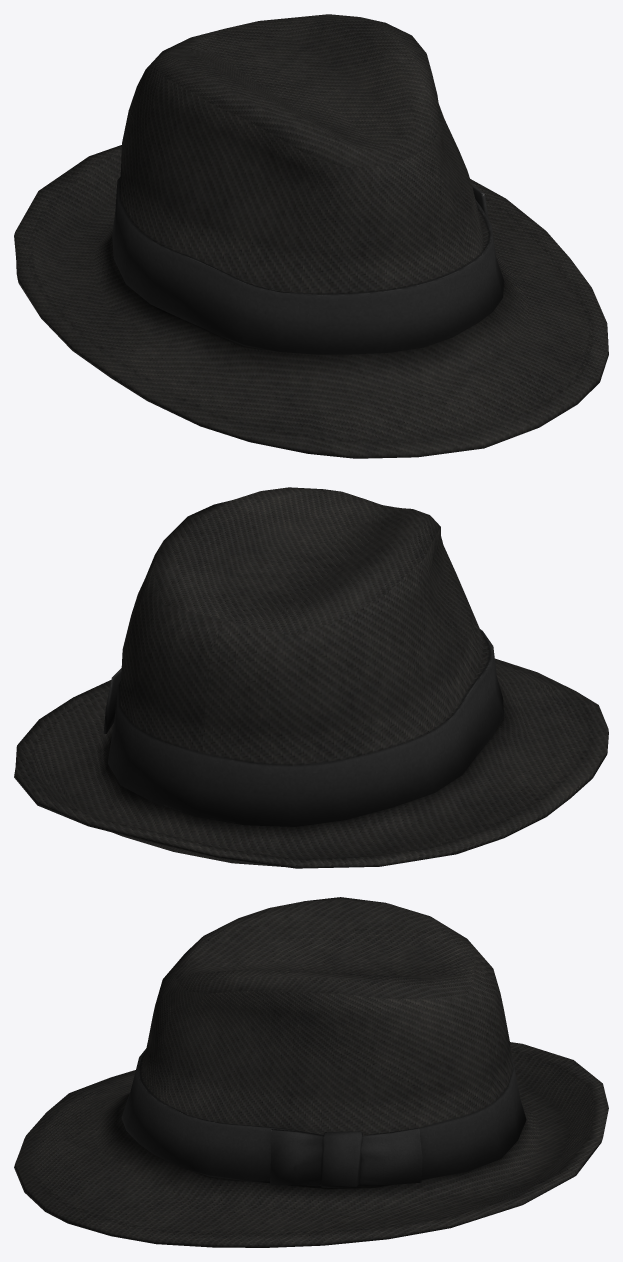
File: hat.glb
3 views of the same model, one above another, from view 1: azimuth 30°, elevation 25°; view 2: azimuth 150°, elevation 25°; view 3: azimuth 270°, elevation 25° (orthographic). The views are drawn at different scales.
Visible parts, largest first — view 1: 005_hat_fedora_hat_fedora_0_0; view 2: 005_hat_fedora_hat_fedora_0_0; view 3: 005_hat_fedora_hat_fedora_0_0.
Part boxes in pixels (x1,y1,x2,y2): 005_hat_fedora_hat_fedora_0_0: (14, 14, 608, 458); 005_hat_fedora_hat_fedora_0_0: (14, 487, 608, 868); 005_hat_fedora_hat_fedora_0_0: (14, 897, 608, 1247).
Bounding box in the file's own units: 2.82 × 1.48 × 3.45.
1 material, 1 textured.
